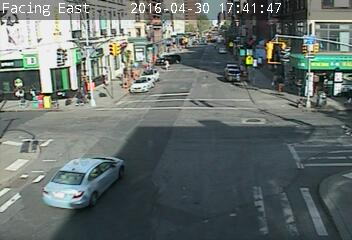neg: (13, 127, 47, 172), (158, 108, 191, 152), (14, 1, 43, 39), (103, 1, 131, 38), (67, 133, 94, 170), (103, 128, 128, 161), (262, 44, 282, 71), (70, 66, 89, 90), (234, 31, 246, 47), (180, 39, 190, 53)
pos: (269, 72, 283, 90), (15, 85, 27, 102), (25, 85, 36, 100), (162, 58, 172, 71), (120, 66, 130, 79)
